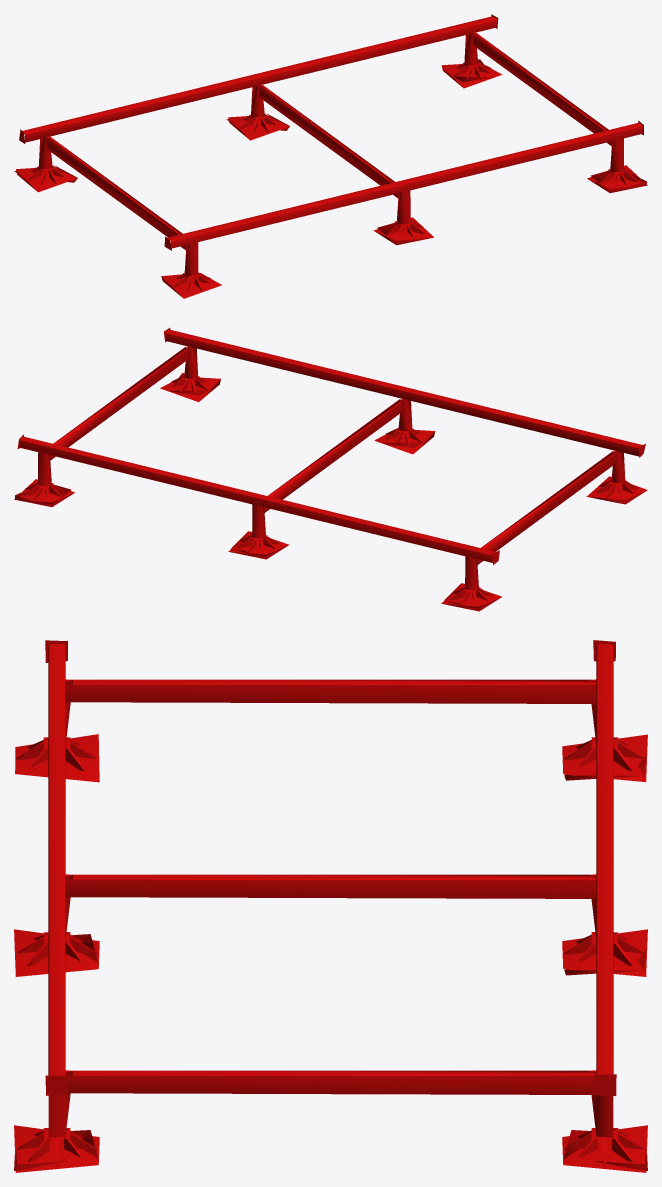
3 views of the same model, one above another, from view 1: azimuth 30°, elevation 25°; view 2: azimuth 150°, elevation 25°; view 3: azimuth 270°, elevation 25° (orthographic). The views are drawn at different scales.
Parts seen in each view (by area): view 1: Mesh; view 2: Mesh; view 3: Mesh.
Boxes of the visible parts, left/top/right/bottom form: Mesh: left=14, top=14, right=647, bottom=298; Mesh: left=14, top=328, right=647, bottom=611; Mesh: left=14, top=640, right=647, bottom=1172.
Bounding box in the file's own units: 3.01 × 0.3283 × 1.85.
